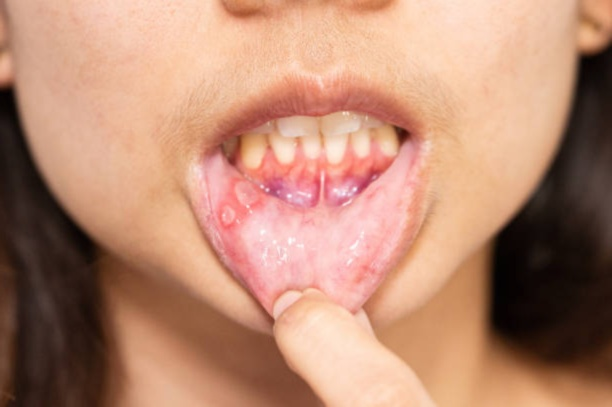Ulcer: (212, 168, 261, 233)
